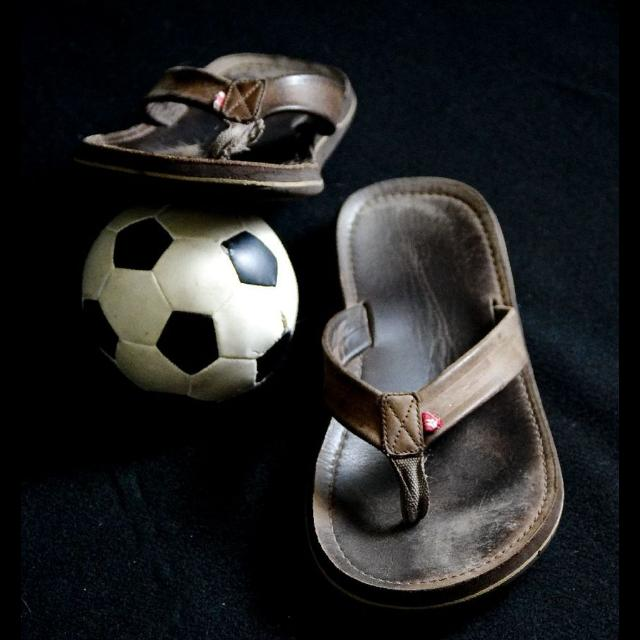Football: (79, 198, 299, 404)
